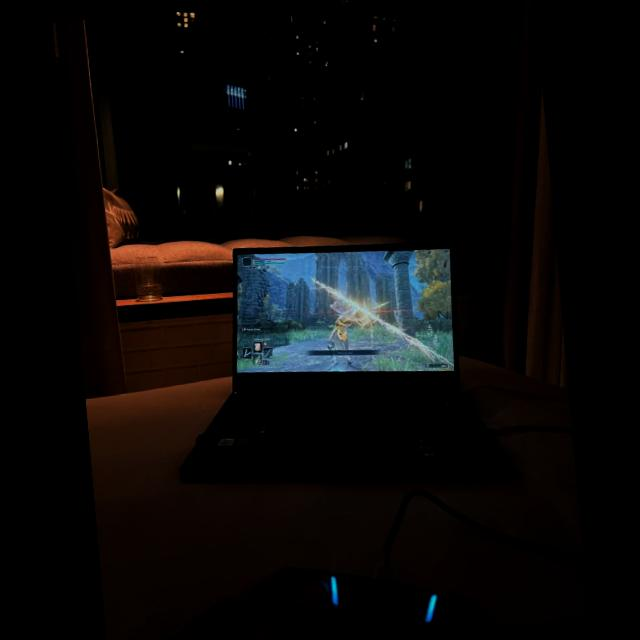laptop: (179, 242, 511, 479)
